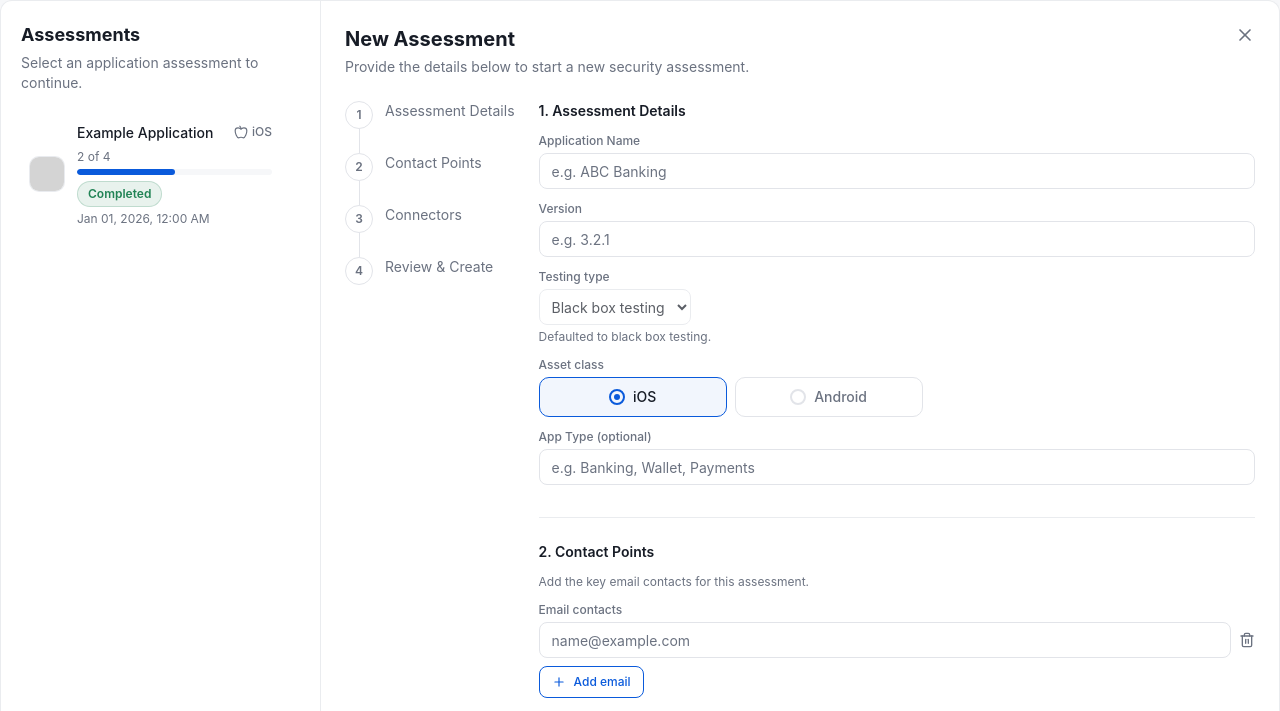
Test: choosing the asset class › asks for a package name only on Android
Click the radio button labelled "Android": (828,397) top-left (734, 377), bottom-right (922, 417)
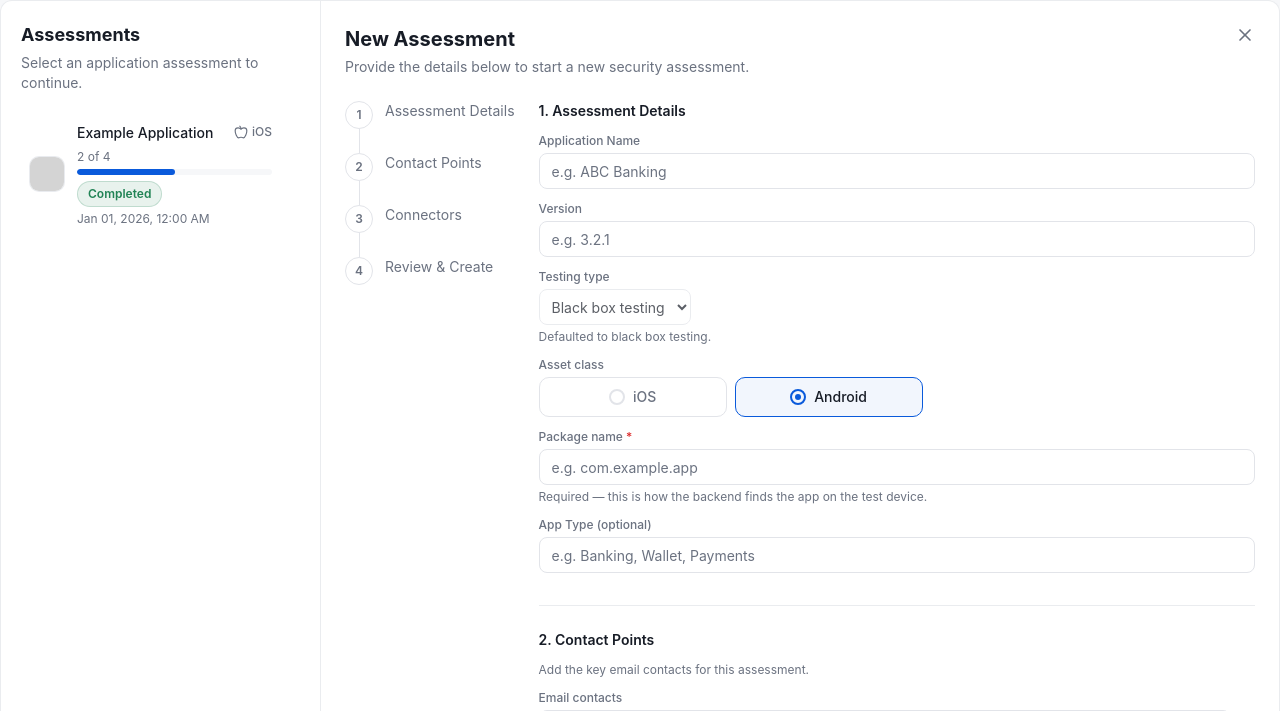
Expected: the field with placeholder "e.g. com.example.app" is shown, top-left (538, 449), bottom-right (1255, 485)
